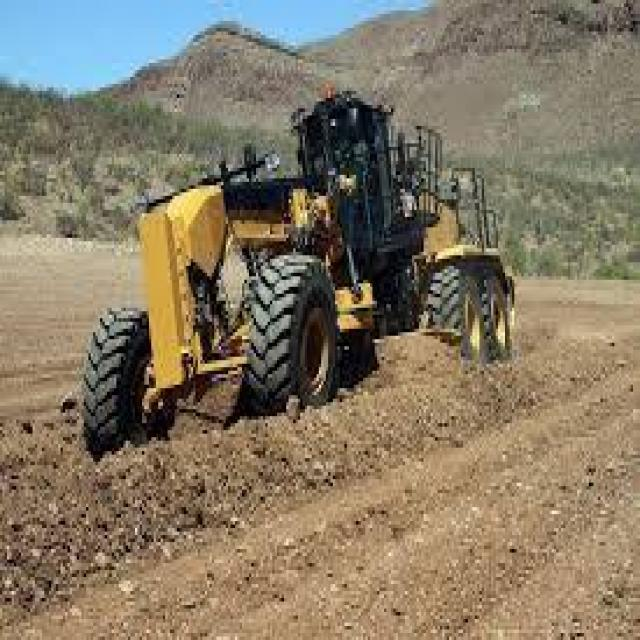Grader: (60, 67, 561, 454)
